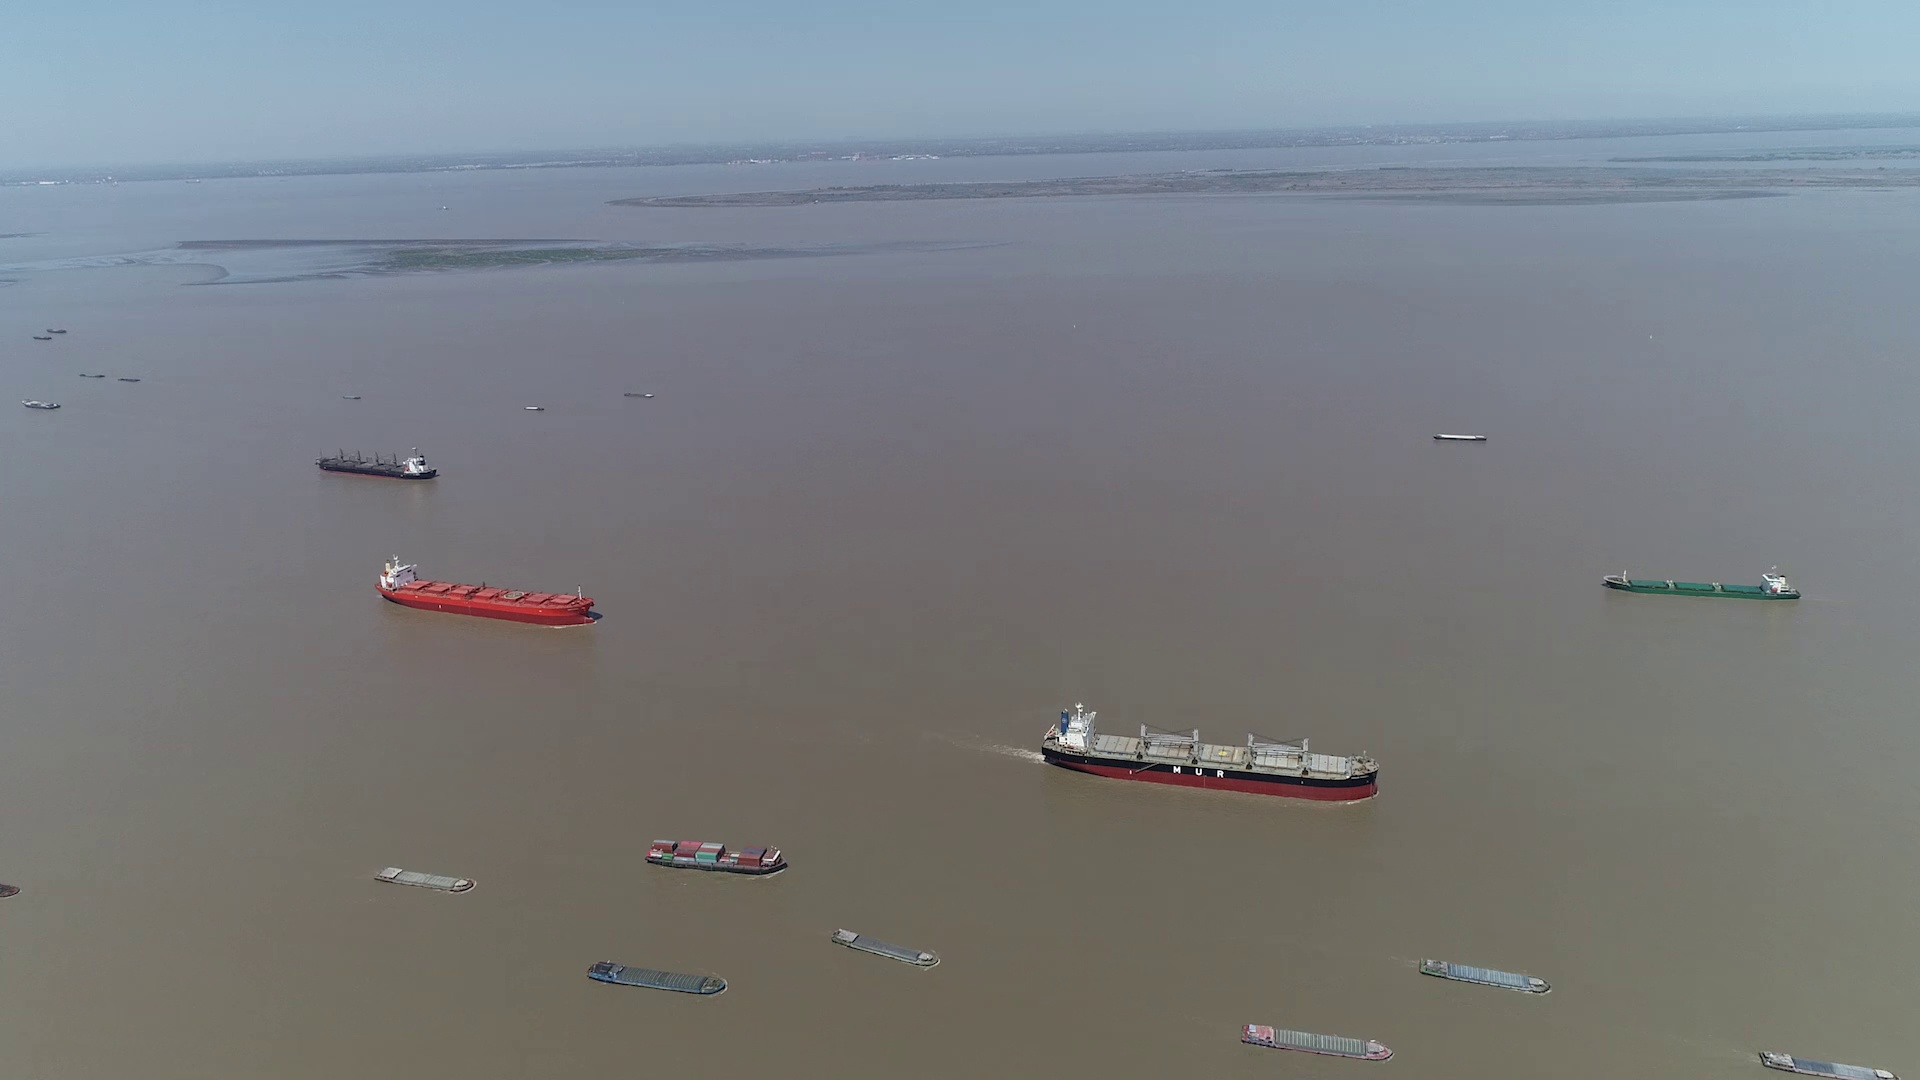ship: (1040, 702, 1379, 800), (375, 556, 596, 625), (1606, 568, 1801, 601), (1241, 1022, 1390, 1062), (647, 837, 789, 876), (1420, 957, 1553, 996), (587, 961, 727, 997), (831, 928, 942, 971), (1756, 1048, 1900, 1079), (316, 447, 435, 480), (377, 866, 476, 893), (1435, 433, 1487, 442), (22, 398, 61, 407), (34, 328, 66, 338)
